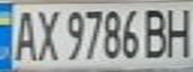6: (121, 6, 145, 60)
7: (81, 6, 106, 60)
8: (103, 6, 124, 60)
9: (60, 6, 84, 61)
A: (6, 6, 39, 62)
B: (142, 4, 172, 60)
H: (163, 4, 193, 58)
X: (33, 5, 60, 62)
